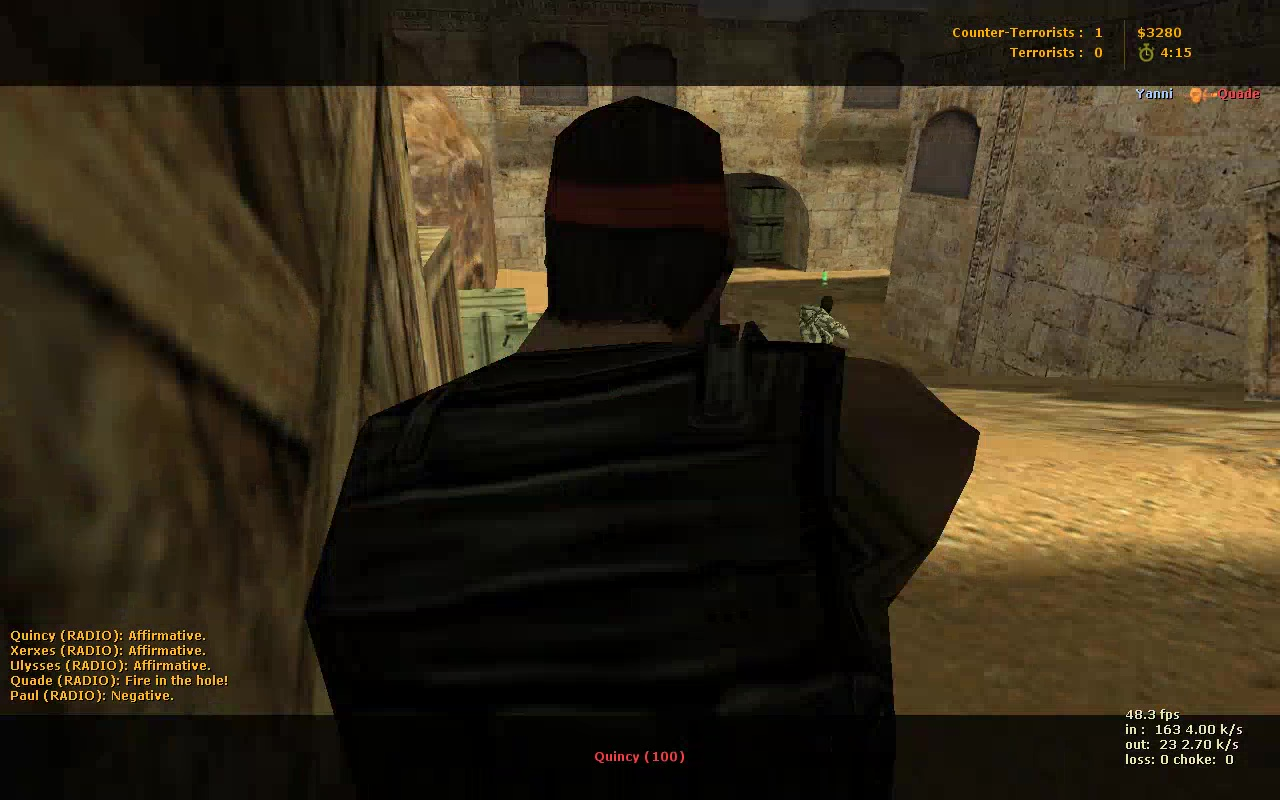terr1: (303, 96, 988, 724)
terr2: (795, 296, 850, 347)
